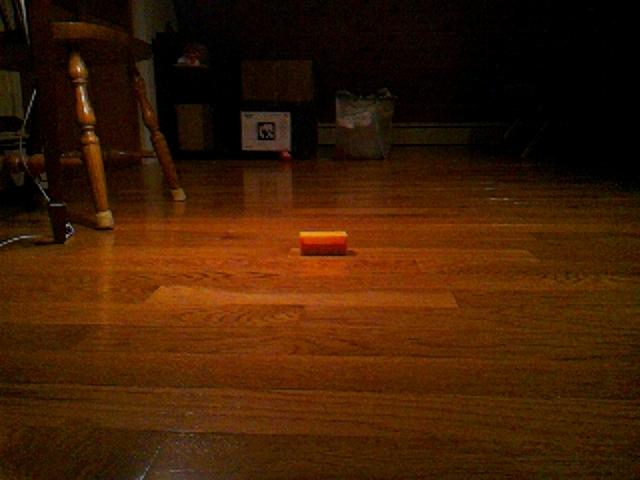yellow: (298, 229, 350, 257)
